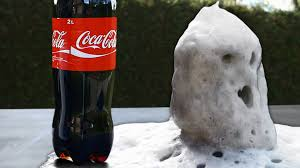coke: (52, 1, 114, 164)
